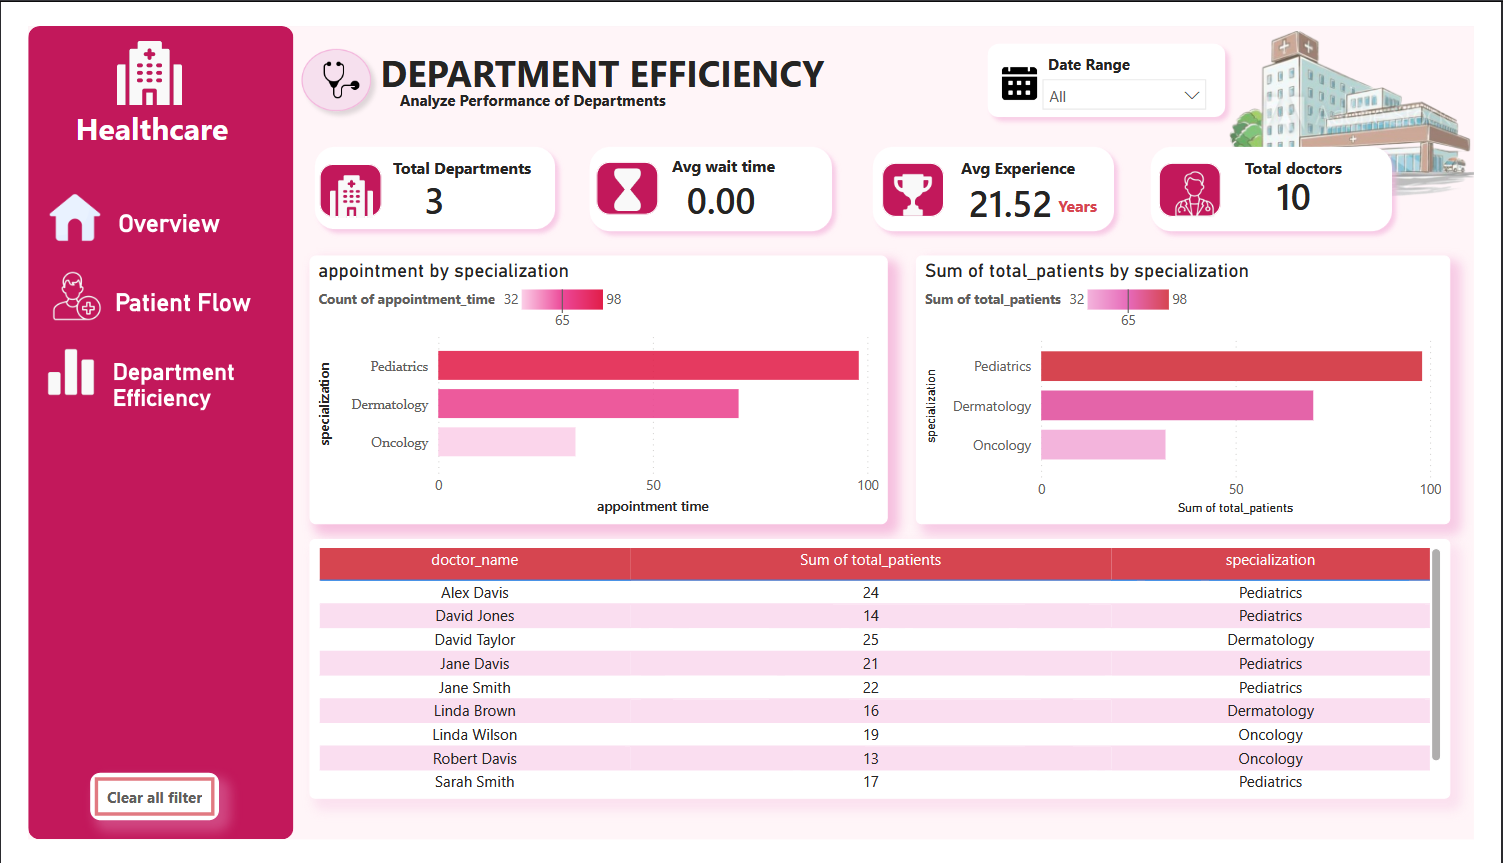

What the dashboard file says about the page in this screenshot:
{"tool":"powerbi","page":{"name":"Department Efficiency","canvas":[1280,720],"ordinal":2},"visuals":[{"type":"image","box":[1062.5,0,217.5,156.2],"z":0},{"type":"shape","box":[840,6.7,228.6,82.9],"z":0,"group":"g3"},{"type":"shape","box":[0,0,234.6,720.4],"z":1000},{"type":"image","box":[858,34,37.9,32.4],"z":1000,"group":"g3"},{"type":"textbox","box":[898.4,19.6,152.8,31.2],"z":2000,"group":"g3"},{"type":"image","box":[12.5,283.5,51.7,44.6],"z":2000},{"type":"slicer","fields":{"Values":["master_dashboard.appointment_month"]},"box":[888.4,36.7,164.2,46],"z":3000,"group":"g3"},{"type":"image","box":[3.6,215.8,78.5,46.4],"z":3000},{"type":"image","box":[0,146.2,82,46.4],"z":4000},{"type":"actionButton","title":"Overview","box":[79.6,161.9,115.3,31.6],"z":5000},{"type":"actionButton","title":"Patient Flow","box":[76.8,231.9,130.4,26.1],"z":6000},{"type":"actionButton","title":"Department Efficiency","box":[75.5,293.7,126.2,49.4],"z":7000},{"type":"textbox","box":[307.4,13.7,411.7,54.9],"z":8000},{"type":"textbox","box":[323.8,52.1,411.7,31.6],"z":9000},{"type":"group","id":"g1","title":"Group 2","box":[232.7,10.8,79.6,72.7],"z":10000},{"type":"shape","box":[232.7,10.8,79.6,72.7],"z":10000,"group":"g1"},{"type":"image","box":[249.2,28.6,56.3,37],"z":11000,"group":"g1"},{"type":"clusteredBarChart","title":"appointment by specialization","fields":{"Category":["specialization_load.specialization"],"Y":["CountNonNull(master_dashboard.appointment_time)"]},"box":[248.6,202.9,512.9,238.6],"z":11000},{"type":"clusteredBarChart","fields":{"Y":["Sum(doctor_efficiency.total_patients)"],"Category":["specialization_load.specialization"]},"box":[785.7,202.9,472.9,238.6],"z":12000},{"type":"shape","box":[489.1,97.5,232.6,93.3],"z":13000,"group":"g4"},{"type":"tableEx","fields":{"Values":["doctor_efficiency.doctor_name","Sum(doctor_efficiency.total_patients)","doctor_efficiency.specialization"]},"box":[248.6,454.3,1010,230],"z":13000},{"type":"group","id":"g2","title":"Group 4","box":[245.2,97.5,972.5,97.5],"z":14000},{"type":"shape","box":[739.1,97.5,232.6,93.3],"z":14000,"group":"g4"},{"type":"shape","box":[985.2,97.5,232.6,93.3],"z":15000,"group":"g4"},{"type":"actionButton","title":"Clear all filter","box":[55.5,661.1,113.4,42.2],"z":15000},{"type":"group","id":"g3","title":"Group 1","box":[840,6.7,228.6,82.9],"z":16000},{"type":"shape","box":[503.5,119.5,54.6,47.1],"z":16000,"group":"g4"},{"type":"textbox","box":[0,67.1,218.6,50],"z":17000},{"type":"shape","box":[756.9,121,54.6,47.1],"z":17000,"group":"g4"},{"type":"image","box":[74.3,12.9,67.1,57.1],"z":18000},{"type":"shape","box":[1001.8,121,54.6,47.1],"z":18000,"group":"g4"},{"type":"image","box":[506.3,125.4,49,38.2],"z":19000,"group":"g4"},{"type":"image","box":[762.5,129.8,42,38.2],"z":20000,"group":"g4"},{"type":"image","box":[1001.8,126.9,61.6,42.7],"z":21000,"group":"g4"},{"type":"shape","box":[245.2,97.5,230.7,91.2],"z":23000,"group":"g2"},{"type":"shape","box":[259.1,121.1,54.7,47.2],"z":24000,"group":"g4"},{"type":"image","box":[258.6,131.3,54.6,38.2],"z":25000,"group":"g4"},{"type":"cardVisual","fields":{"Data":["CountNonNull(specialization_load.specialization)"]},"box":[322.4,106,76.6,89],"z":26000,"group":"g4"},{"type":"textbox","box":[318.3,110.2,146.5,33.9],"z":27000,"group":"g4"},{"type":"textbox","box":[566,108.2,120.8,33.5],"z":28000,"group":"g4"},{"type":"cardVisual","fields":{"Data":["Avg(wait_time.avg_wait_days)"]},"box":[555,115.9,121,69.2],"z":29000,"group":"g4"},{"type":"textbox","box":[1072.6,110.2,99.5,33.9],"z":30000,"group":"g4"},{"type":"textbox","box":[821.2,110.7,140,33.8],"z":31000,"group":"g4"},{"type":"cardVisual","fields":{"Data":["CountNonNull(doctor_efficiency.doctor_name)"]},"box":[1076.3,116,91.4,64.4],"z":32000,"group":"g4"},{"type":"cardVisual","fields":{"Data":["Avg(master_dashboard.years_experience)"]},"box":[804.4,119.5,154,67.7],"z":33000,"group":"g4"},{"type":"textbox","box":[907.7,144.4,61,33.3],"z":34000,"group":"g4"},{"type":"group","id":"g4","title":"Group 3","box":[258.6,97.5,959.1,97.5],"z":37001,"group":"g2"}]}

Visuals, with their boxes in screenshot pixels (x1, y1, x2, y2), scaled from the page's 1280x720 canvas onto the 1503x863 screenshot:
image: BBox(1248, 0, 1502, 187)
shape: BBox(986, 8, 1255, 107)
shape: BBox(0, 0, 275, 862)
image: BBox(1007, 41, 1052, 80)
textbox: BBox(1055, 23, 1234, 61)
image: BBox(15, 340, 75, 393)
slicer - master_dashboard.appointment_month: BBox(1043, 44, 1236, 99)
image: BBox(4, 259, 96, 314)
image: BBox(0, 175, 96, 231)
"Overview" actionButton: BBox(93, 194, 229, 232)
"Patient Flow" actionButton: BBox(90, 278, 243, 309)
"Department Efficiency" actionButton: BBox(89, 352, 237, 411)
textbox: BBox(361, 16, 844, 82)
textbox: BBox(380, 62, 864, 100)
"Group 2" group: BBox(273, 13, 367, 100)
shape: BBox(273, 13, 367, 100)
image: BBox(293, 34, 359, 79)
"appointment by specialization" clusteredBarChart: BBox(292, 243, 894, 529)
clusteredBarChart - Sum(doctor_efficiency.total_patients) x specialization_load.specialization: BBox(923, 243, 1478, 529)
shape: BBox(574, 117, 847, 229)
tableEx - doctor_efficiency.doctor_name x Sum(doctor_efficiency.total_patients): BBox(292, 545, 1478, 820)
"Group 4" group: BBox(288, 117, 1430, 234)
shape: BBox(868, 117, 1141, 229)
shape: BBox(1157, 117, 1430, 229)
"Clear all filter" actionButton: BBox(65, 792, 198, 843)
"Group 1" group: BBox(986, 8, 1255, 107)
shape: BBox(591, 143, 655, 200)
textbox: BBox(0, 80, 257, 140)
shape: BBox(889, 145, 953, 201)
image: BBox(87, 15, 166, 84)
shape: BBox(1176, 145, 1240, 201)
image: BBox(595, 150, 652, 196)
image: BBox(895, 156, 945, 201)
image: BBox(1176, 152, 1249, 203)
shape: BBox(288, 117, 559, 226)
shape: BBox(304, 145, 368, 202)
image: BBox(304, 157, 368, 203)
cardVisual - CountNonNull(specialization_load.specialization): BBox(379, 127, 469, 234)
textbox: BBox(374, 132, 546, 173)
textbox: BBox(665, 130, 806, 170)
cardVisual - Avg(wait_time.avg_wait_days): BBox(652, 139, 794, 222)
textbox: BBox(1259, 132, 1376, 173)
textbox: BBox(964, 133, 1129, 173)
cardVisual - CountNonNull(doctor_efficiency.doctor_name): BBox(1264, 139, 1371, 216)
cardVisual - Avg(master_dashboard.years_experience): BBox(945, 143, 1125, 224)
textbox: BBox(1066, 173, 1137, 213)
"Group 3" group: BBox(304, 117, 1430, 234)
